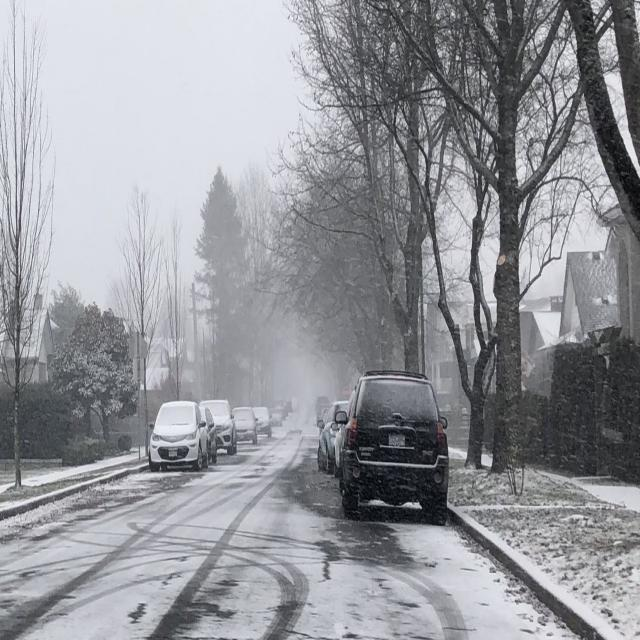car: (333, 370, 451, 521), (150, 400, 208, 473), (318, 403, 350, 475), (200, 399, 236, 458), (232, 407, 258, 443), (254, 406, 274, 435), (269, 408, 282, 428)
